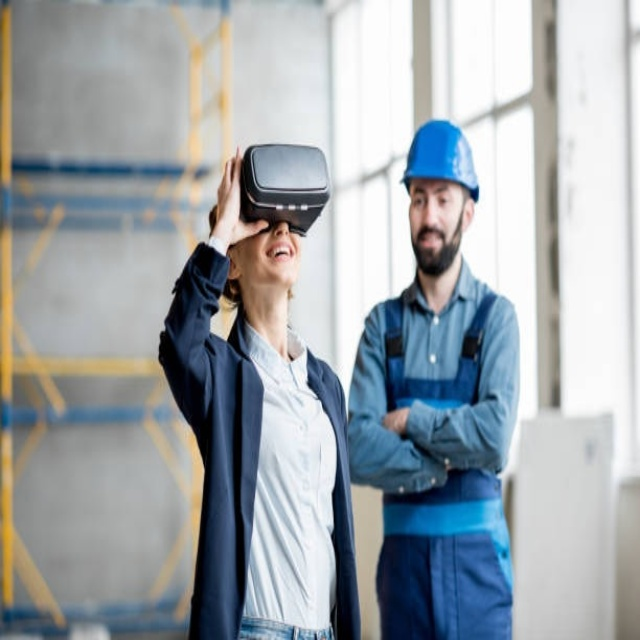Sin_gafas: (409, 182, 458, 213)
Sin_guantes: (212, 149, 268, 242)
Sin_mascara: (414, 220, 450, 267), (264, 234, 299, 276)
